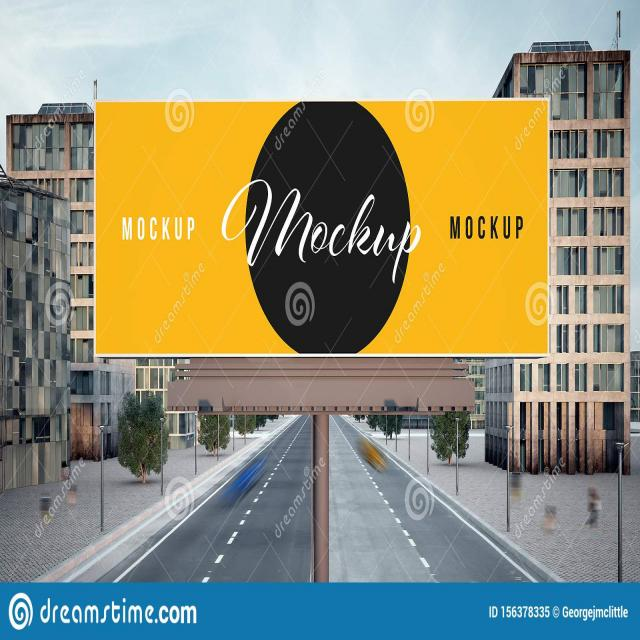Werbetafel frei: (72, 67, 567, 398)
